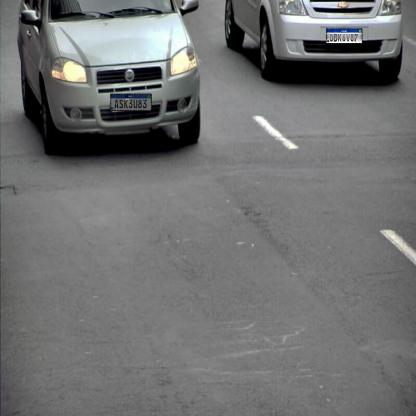PlacaM: (110, 94, 152, 111), (326, 28, 362, 44)
